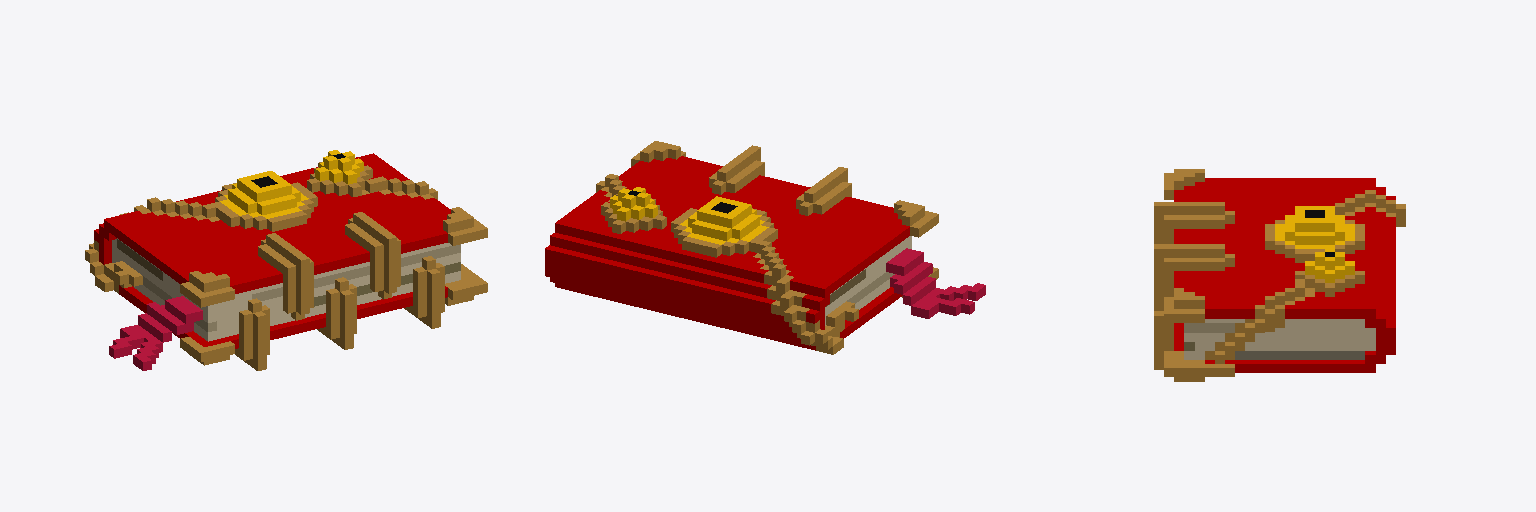
The picture shows the model from 3 angles: view 1: azimuth 30°, elevation 25°; view 2: azimuth 150°, elevation 25°; view 3: azimuth 270°, elevation 25°; orthographic projection.
Visible parts, largest first — view 1: object 1; view 2: object 1; view 3: object 1.
Boxes of the visible parts, x1,y1,x2,y2 form: object 1: [85, 150, 487, 370]; object 1: [545, 141, 985, 354]; object 1: [1154, 169, 1405, 381].
Size of the model in its own units: 4 by 1.2 by 2.5.
Materials: 1 (1 with a texture image).